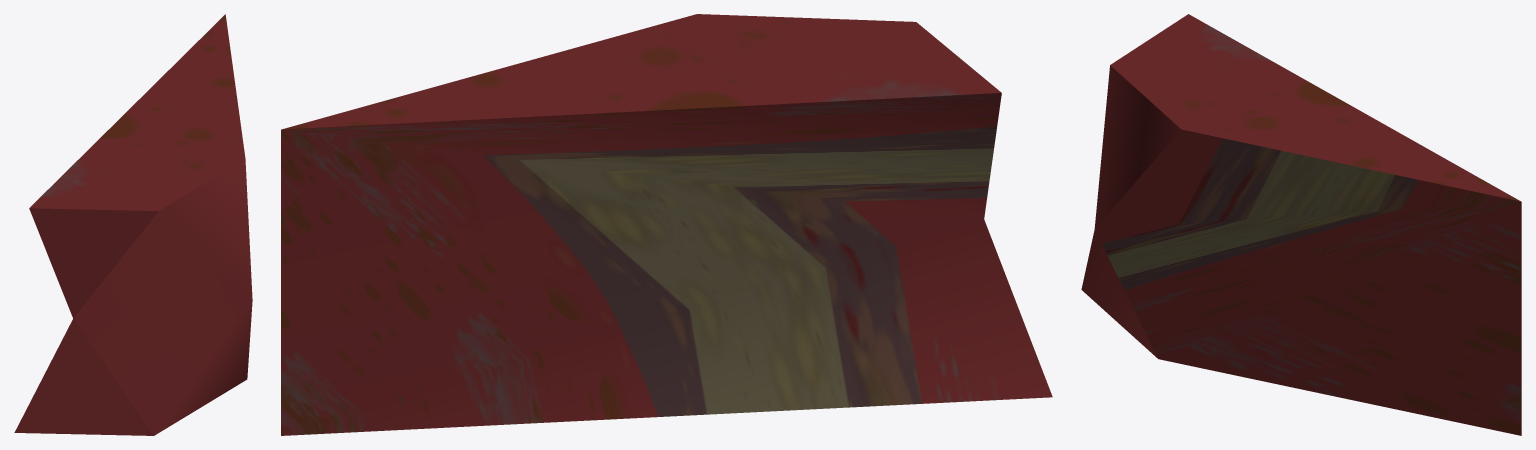
File: ishi_03_10_6.fbx
3 renders of one model, left to right at view 1: azimuth 30°, elevation 25°; view 2: azimuth 150°, elevation 25°; view 3: azimuth 270°, elevation 25°, orthographic. The views are drawn at different scales.
Parts seen in each view (by area): view 1: polySurface51; view 2: polySurface51; view 3: polySurface51.
Boxes of the visible parts, x1,y1,x2,y2 form: polySurface51: (14, 14, 252, 435); polySurface51: (281, 14, 1052, 435); polySurface51: (1081, 14, 1521, 435).
Size of the model in its own units: 9.46 by 5.14 by 8.75.
1 material, 1 textured.
